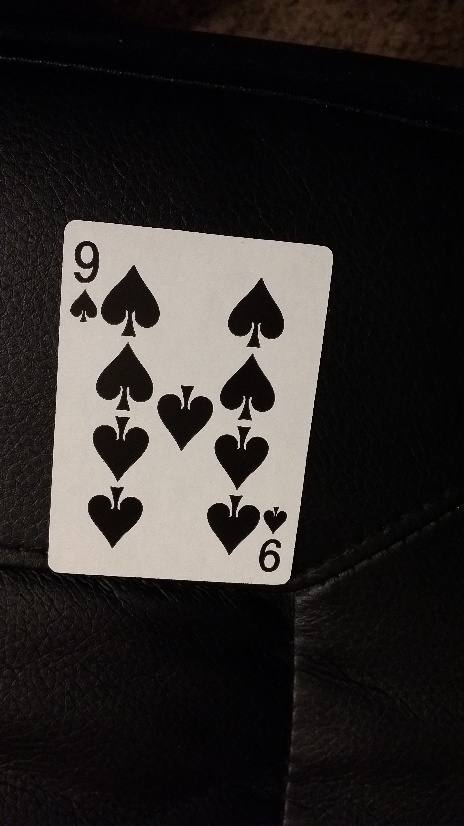S9: (68, 233, 101, 317), (257, 497, 289, 578)
